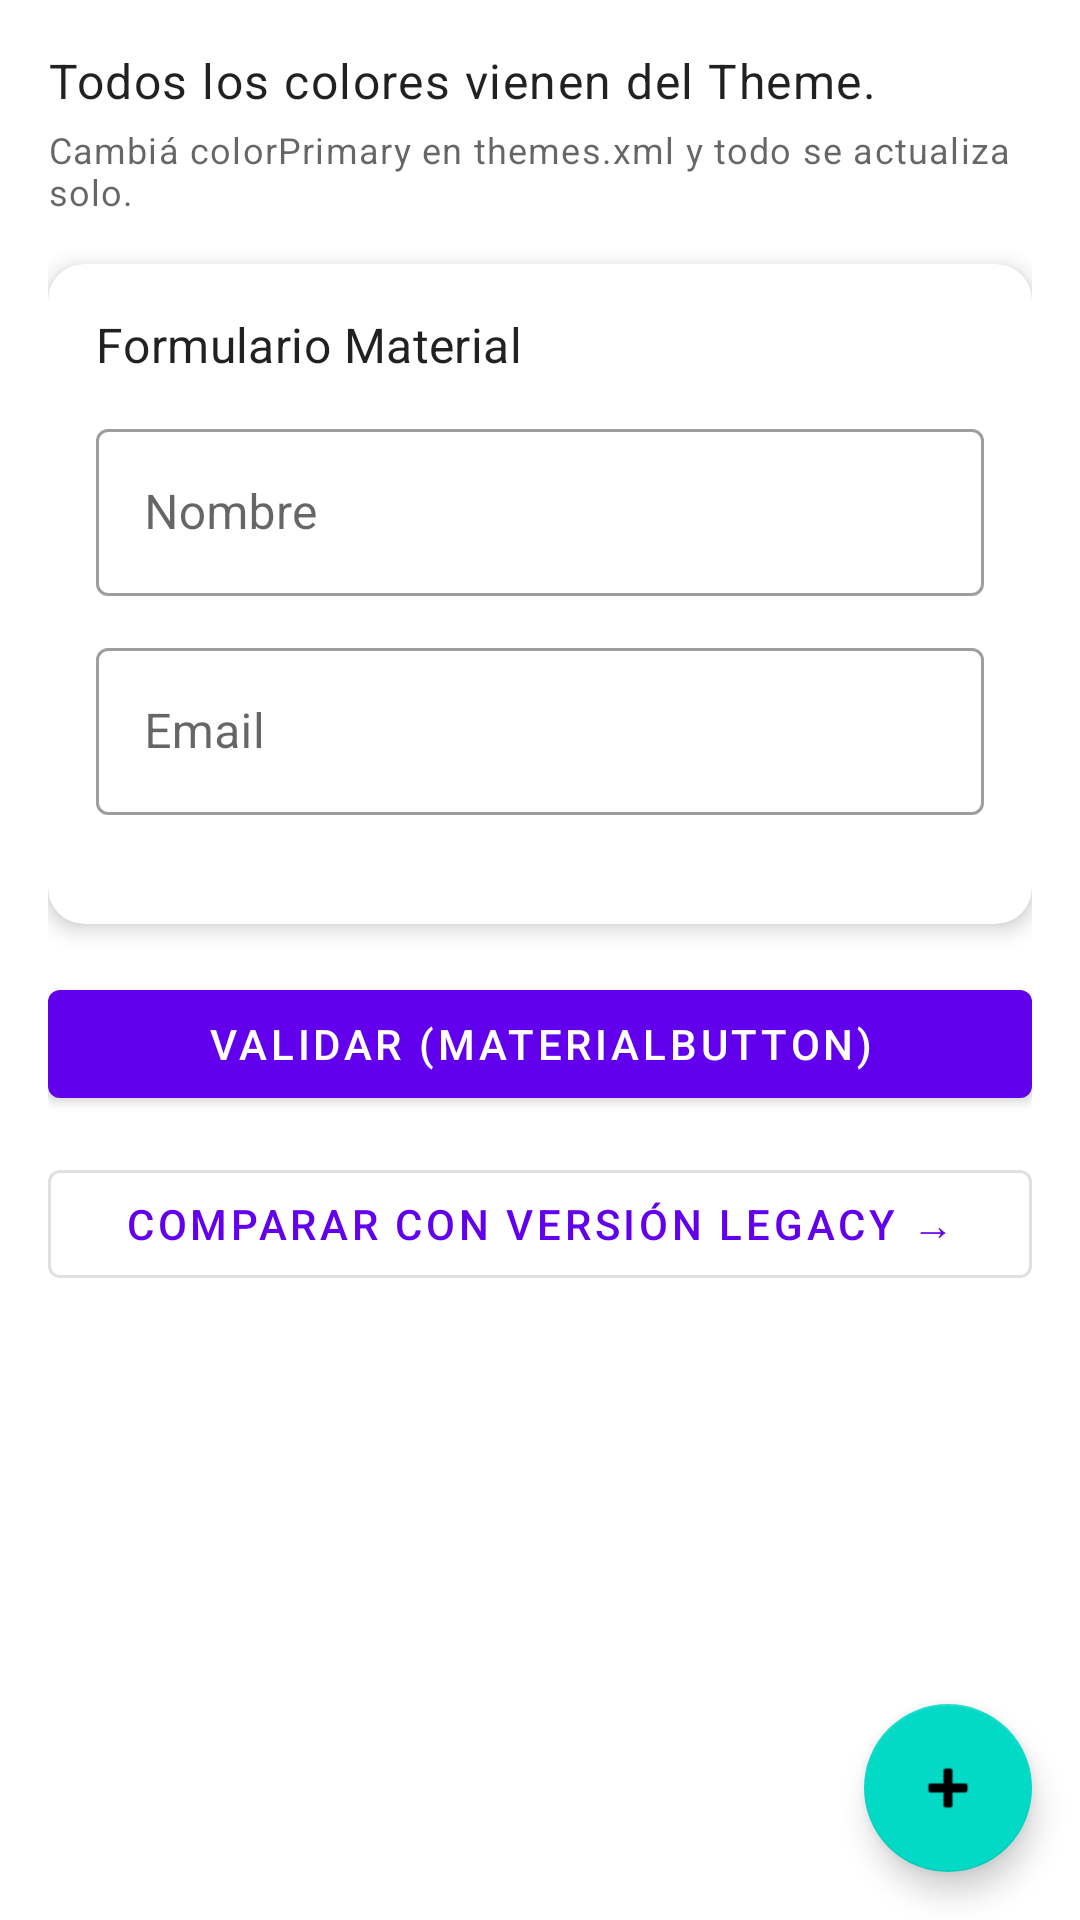

Screen size 1080 x 1920. Icon name, then its box in pixels as (x1, y1, x2, y2):
Agregar: (864, 1704, 1032, 1872)
